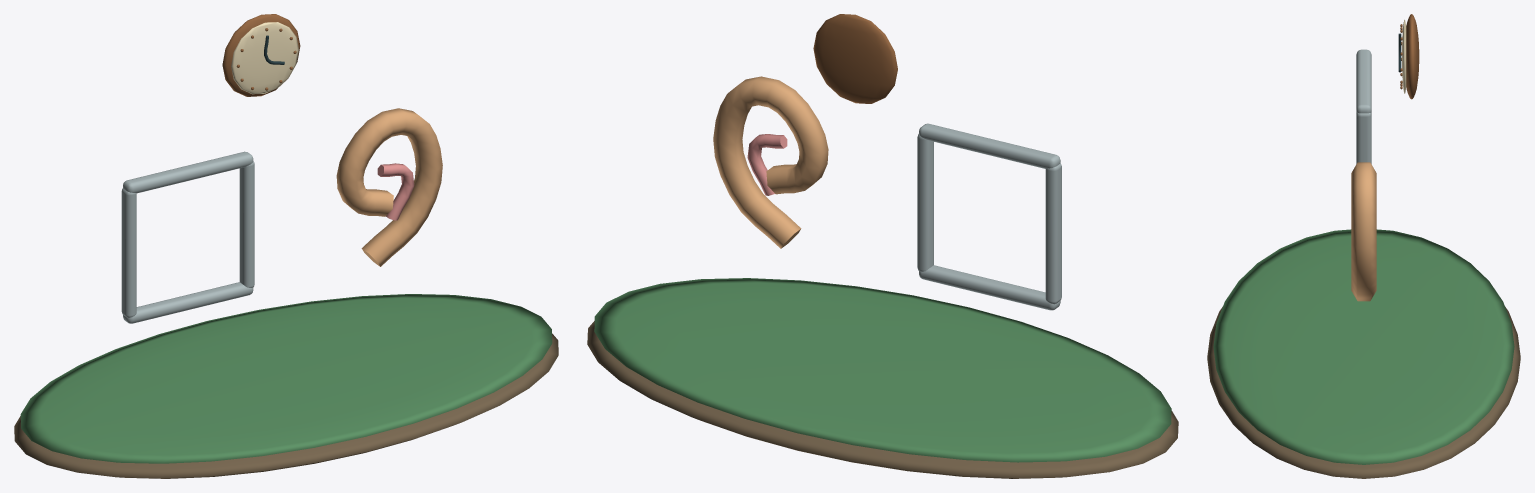
Rendered from complete-third-empty-conversation.glb.
3 renders of one model, left to right at view 1: azimuth 30°, elevation 25°; view 2: azimuth 150°, elevation 25°; view 3: azimuth 270°, elevation 25°, orthographic. The views are drawn at different scales.
Parts seen in each view (by area): view 1: complete-third-empty-conversation_surface_01, complete-third-empty-conversation_surface_00, complete-third-empty-conversation_surface_03, complete-third-empty-conversation_surface_02, complete-third-empty-conversation_surface_06, complete-third-empty-conversation_surface_05, complete-third-empty-conversation_surface_04; view 2: complete-third-empty-conversation_surface_01, complete-third-empty-conversation_surface_00, complete-third-empty-conversation_surface_03, complete-third-empty-conversation_surface_02, complete-third-empty-conversation_surface_05, complete-third-empty-conversation_surface_04; view 3: complete-third-empty-conversation_surface_01, complete-third-empty-conversation_surface_00, complete-third-empty-conversation_surface_03, complete-third-empty-conversation_surface_02, complete-third-empty-conversation_surface_05.
Part boxes in pixels (bbox=[...]): complete-third-empty-conversation_surface_01: bbox=[20, 294, 552, 463]; complete-third-empty-conversation_surface_00: bbox=[14, 333, 558, 478]; complete-third-empty-conversation_surface_03: bbox=[336, 108, 442, 266]; complete-third-empty-conversation_surface_02: bbox=[121, 151, 254, 323]; complete-third-empty-conversation_surface_06: bbox=[231, 22, 298, 94]; complete-third-empty-conversation_surface_05: bbox=[222, 14, 300, 96]; complete-third-empty-conversation_surface_04: bbox=[377, 163, 414, 220]; complete-third-empty-conversation_surface_01: bbox=[594, 278, 1171, 462]; complete-third-empty-conversation_surface_00: bbox=[587, 321, 1178, 478]; complete-third-empty-conversation_surface_03: bbox=[713, 76, 828, 248]; complete-third-empty-conversation_surface_02: bbox=[917, 123, 1061, 310]; complete-third-empty-conversation_surface_05: bbox=[813, 14, 897, 103]; complete-third-empty-conversation_surface_04: bbox=[747, 134, 787, 195]; complete-third-empty-conversation_surface_01: bbox=[1213, 229, 1514, 464]; complete-third-empty-conversation_surface_00: bbox=[1207, 307, 1520, 478]; complete-third-empty-conversation_surface_03: bbox=[1351, 162, 1376, 301]; complete-third-empty-conversation_surface_02: bbox=[1356, 49, 1371, 163]; complete-third-empty-conversation_surface_05: bbox=[1400, 14, 1419, 99].
Bounding box in the file's own units: 4.56 × 3.12 × 2.5.
